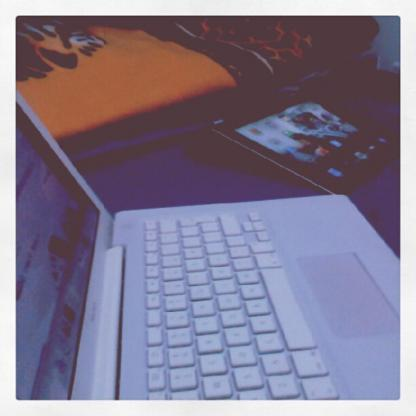board: (16, 91, 399, 400)
